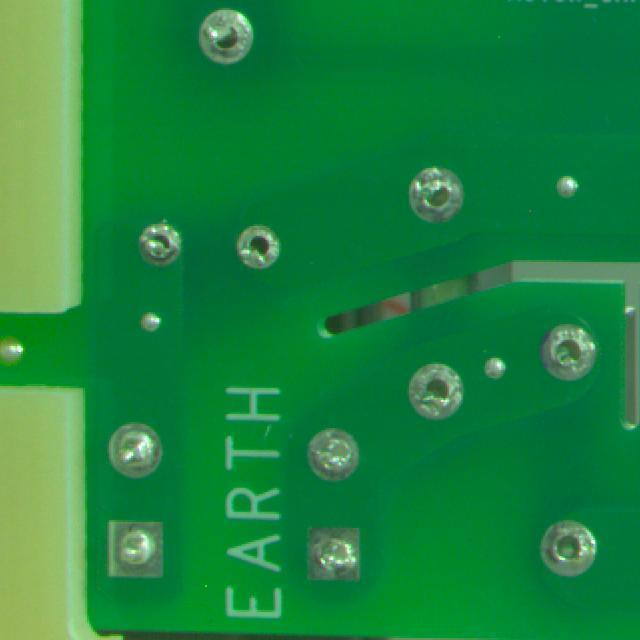Insufficient solder: (296, 506, 377, 606), (386, 153, 476, 237), (97, 508, 176, 597), (100, 207, 189, 279), (397, 351, 470, 432), (279, 420, 378, 477), (101, 410, 170, 491), (536, 323, 611, 390), (220, 222, 287, 284), (537, 515, 602, 577), (197, 5, 254, 73)
